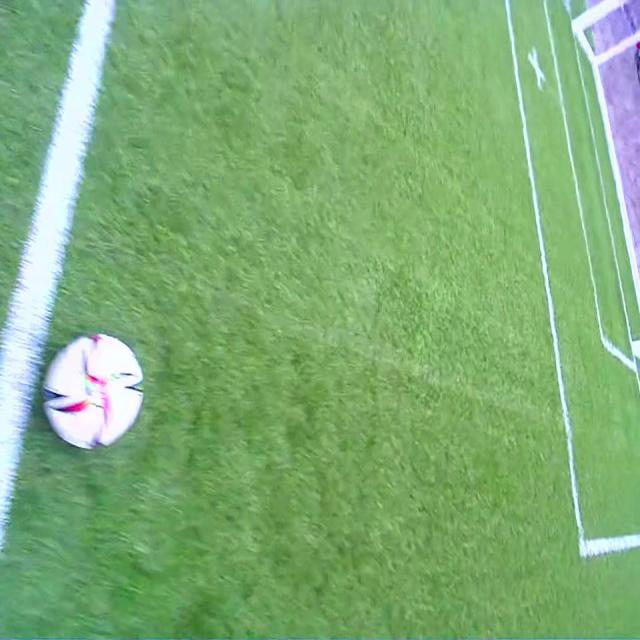ball: (42, 332, 144, 450)
